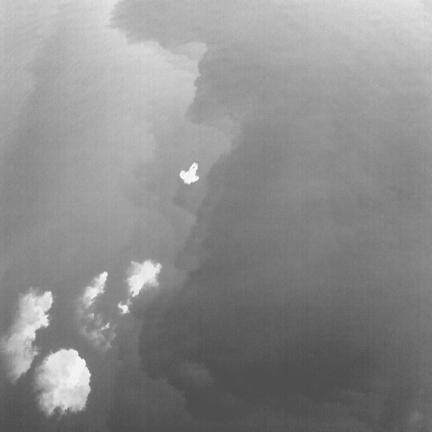flukeprints: (34, 349, 90, 415), (126, 260, 161, 297), (82, 272, 107, 310), (180, 162, 198, 184), (117, 300, 128, 314)
